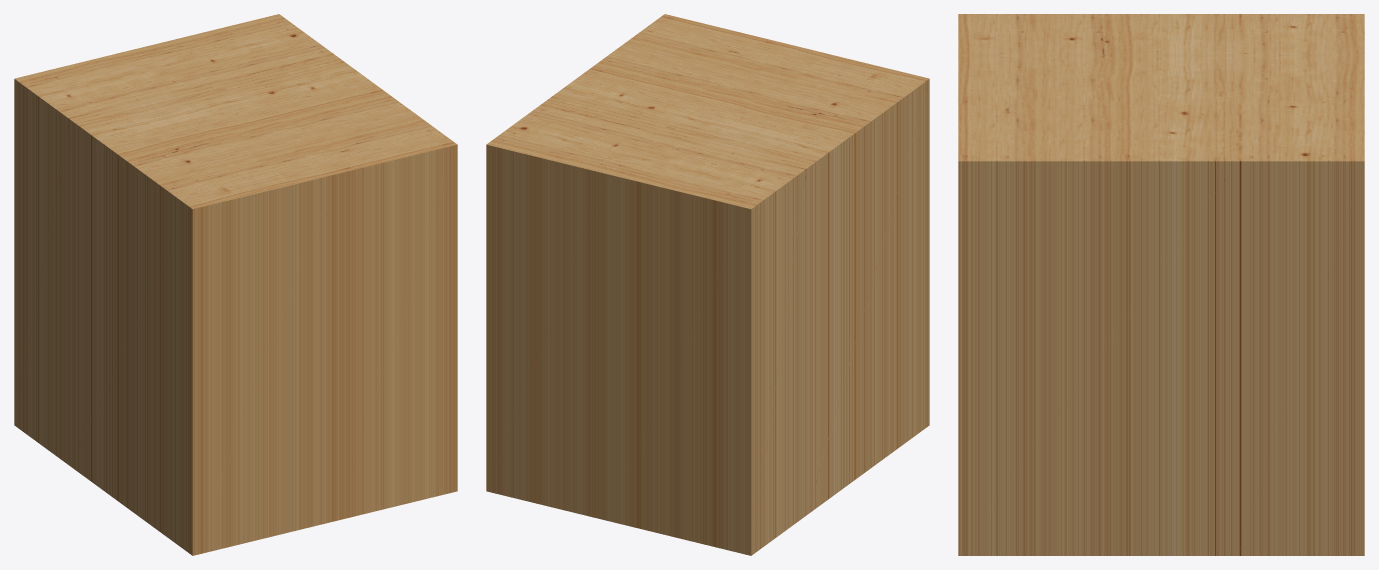
The model's file is poot_rechts_achter.obj.
The picture shows the model from 3 angles, left to right: view 1: azimuth 30°, elevation 25°; view 2: azimuth 150°, elevation 25°; view 3: azimuth 270°, elevation 25°; orthographic projection. The views are drawn at different scales.
Parts seen in each view (by area): view 1: Poot_links_voor; view 2: Poot_links_voor; view 3: Poot_links_voor.
Boxes of the visible parts, x1,y1,x2,y2 form: Poot_links_voor: (14, 14, 457, 555); Poot_links_voor: (486, 14, 929, 555); Poot_links_voor: (958, 14, 1364, 555).
Size of the model in its own units: 0.4724 by 0.5906 by 0.5512.
1 material, 1 textured.
